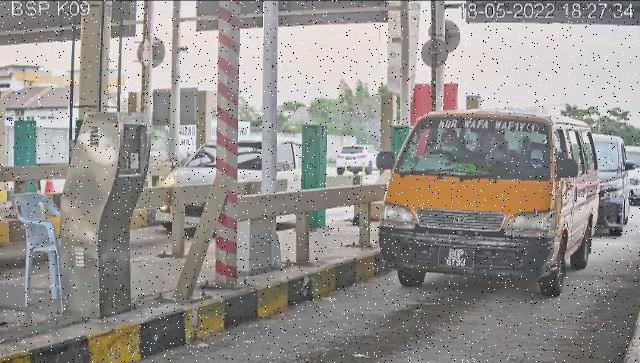License_Plate: (438, 246, 477, 272)
van: (379, 110, 599, 299)
